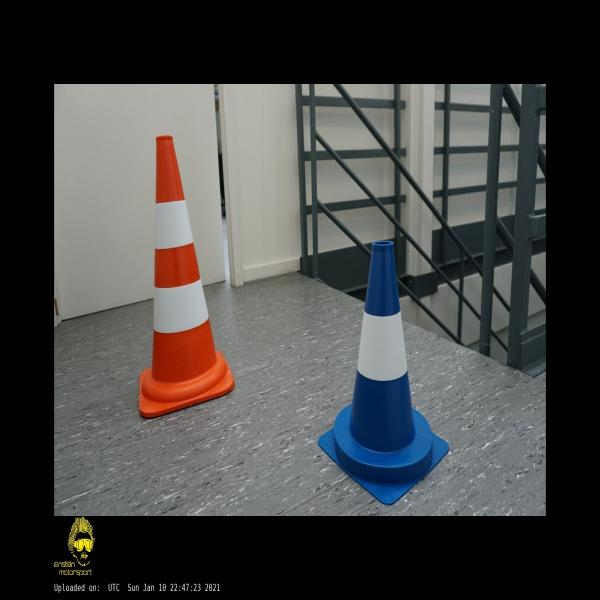blue_cone: (318, 241, 450, 506)
large_orange_cone: (139, 136, 235, 418)
